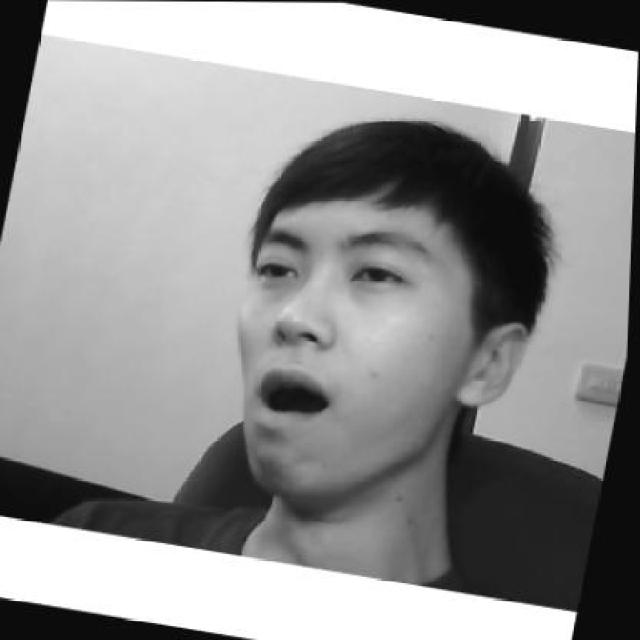inattentif: (208, 95, 566, 530)
